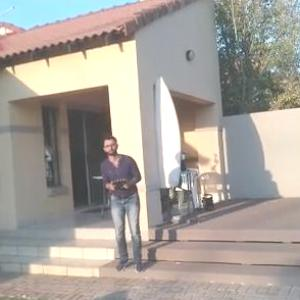follow: (99, 132, 147, 276)
